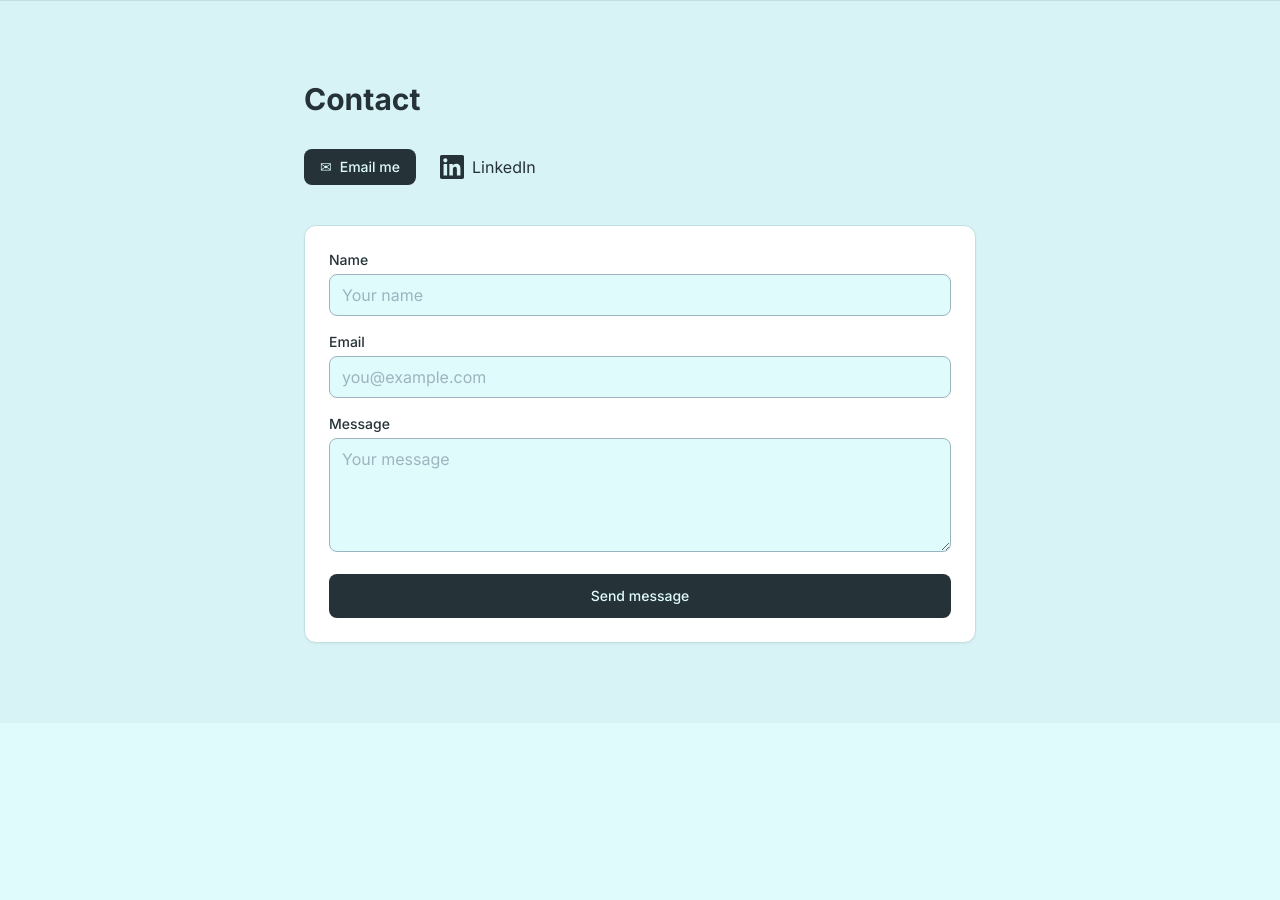
it: ContactSection › shows error message when Web3Forms returns success: false
Type "Jane" into the field with placeholder "Your name" at (640, 295), box 329,274 -> 951,316
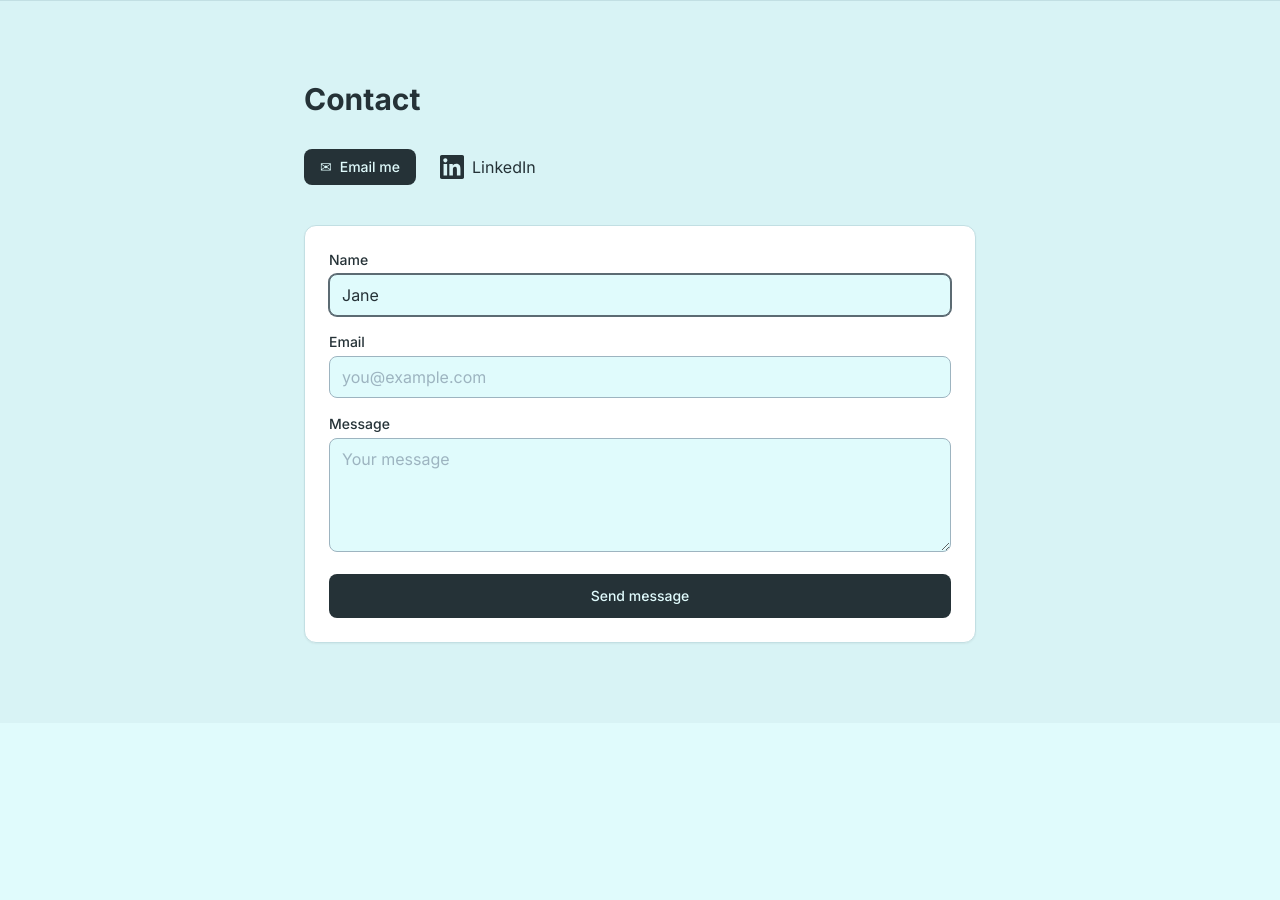
Type "jane@example.com" into the field with placeholder "you@example.com" at (640, 377), box 329,356 -> 951,398
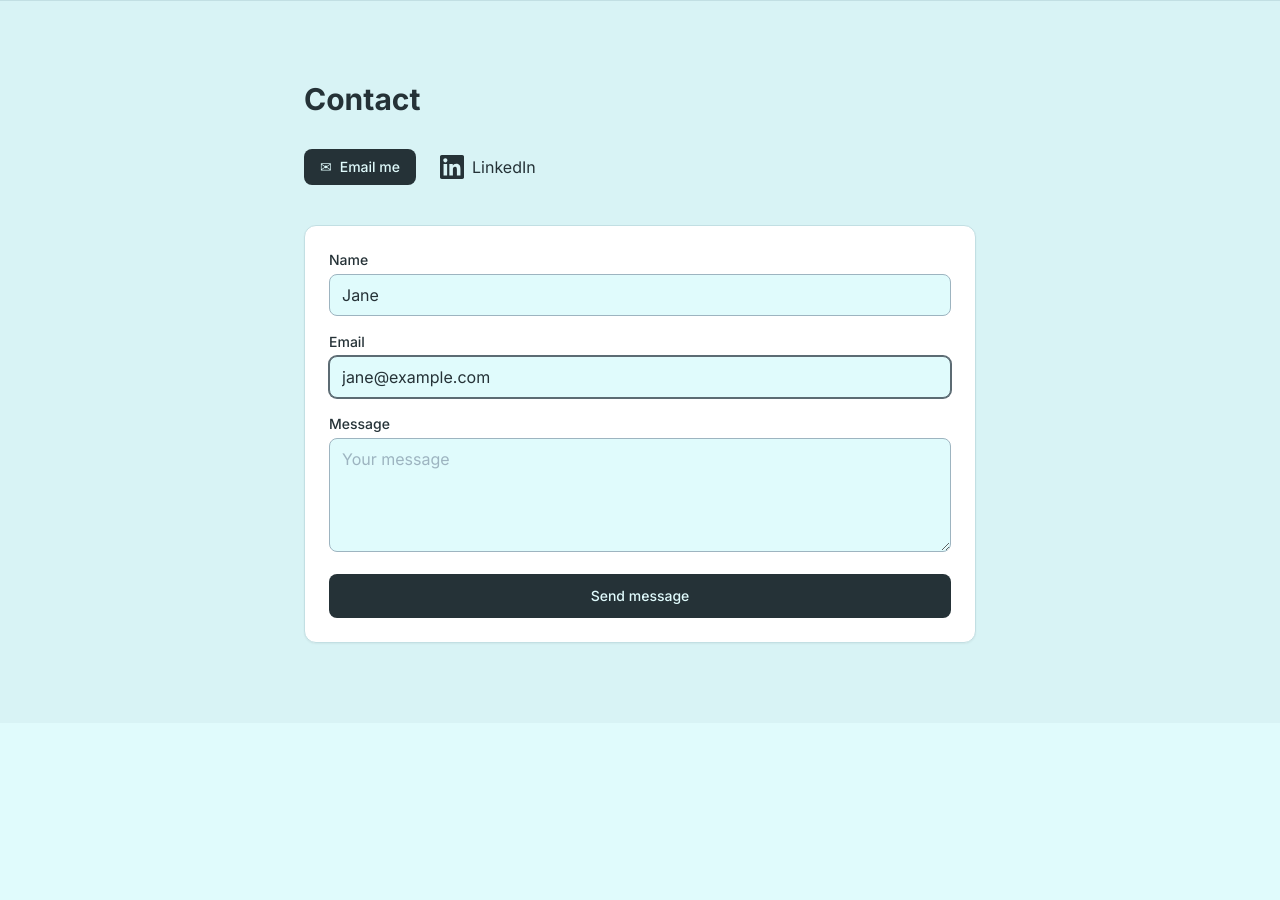
Type "Hello" into the text box with placeholder "Your message" at (640, 495), box 329,438 -> 951,552
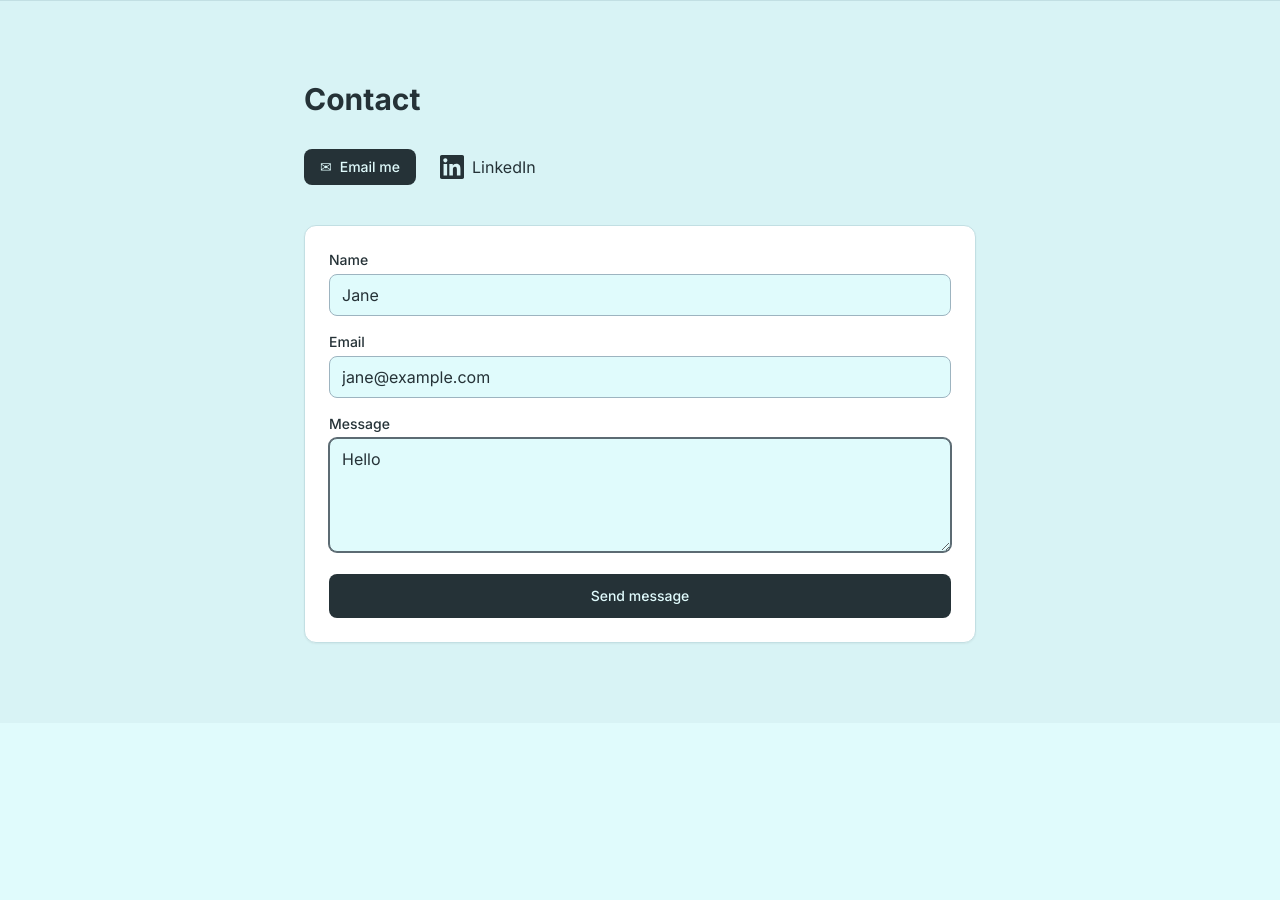
Click the button "Send message" at (640, 596), box 329,574 -> 951,618
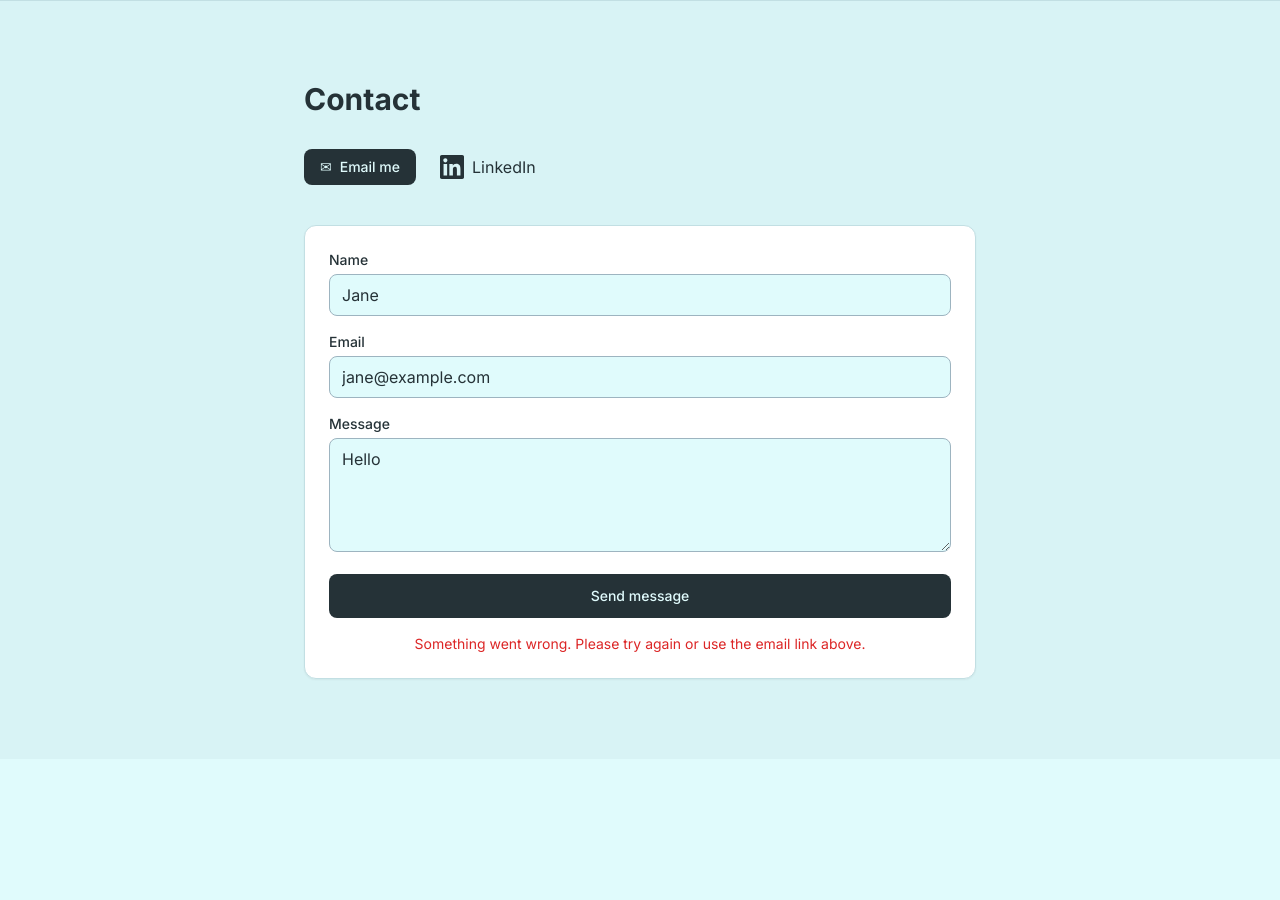
Result: the message shows "Something went wrong" at 415,635 -> 865,652
